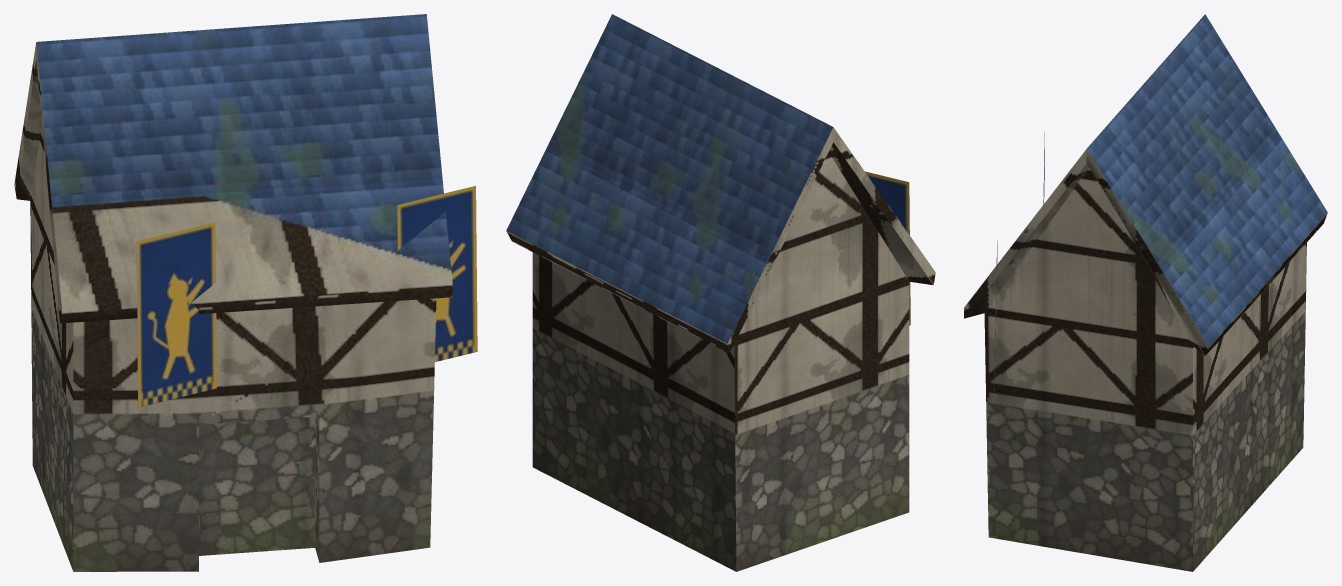
File: house_03_card_lod1.glb
3 views of the same model, side by side, from view 1: azimuth 30°, elevation 25°; view 2: azimuth 150°, elevation 25°; view 3: azimuth 270°, elevation 25° (orthographic). The views are drawn at different scales.
Parts seen in each view (by area): view 1: house_03_game_card; view 2: house_03_game_card; view 3: house_03_game_card.
Part boxes in pixels (x1,y1,x2,y2): house_03_game_card: (14, 14, 477, 571); house_03_game_card: (506, 14, 935, 571); house_03_game_card: (964, 14, 1327, 571).
Size of the model in its own units: 7.4 by 8.13 by 6.52.
Materials: 1 (1 with a texture image).
